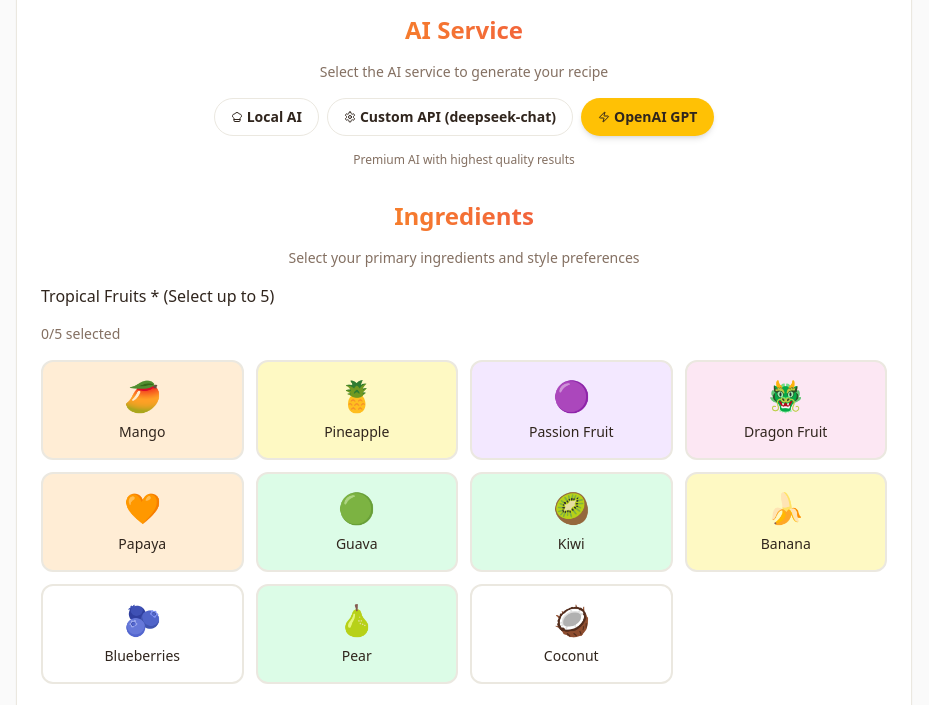
RecipeGenerator Component › allows selecting multiple ingredients and styles
This screenshot has width=929, height=705.
Click the text "Mango". click: (142, 432)
box: [119,422,165,441]
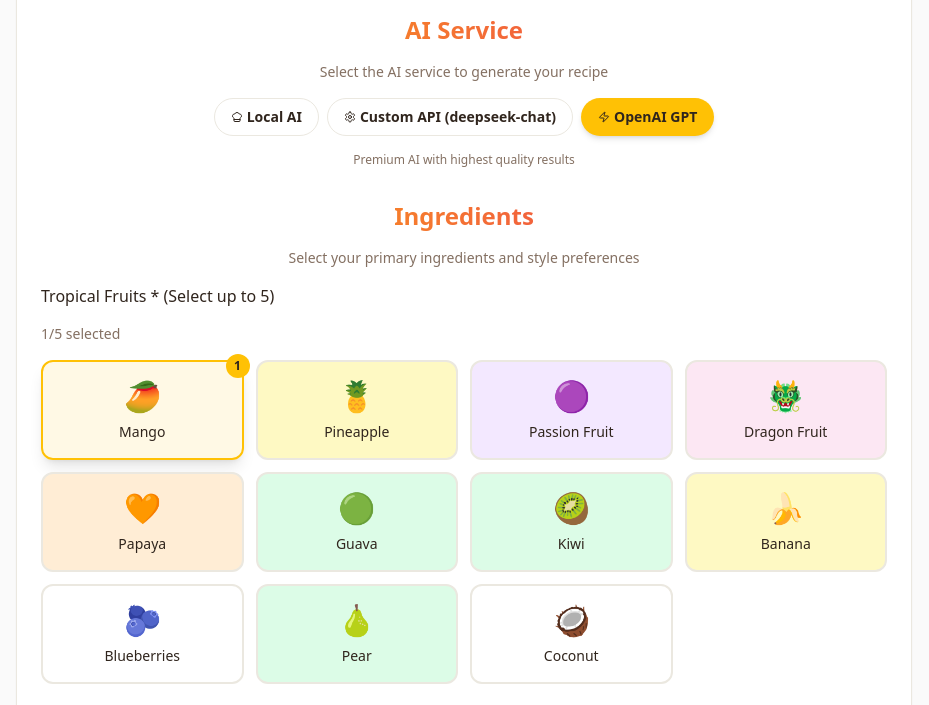
Click the text "Pineapple". click: (357, 432)
box: [324,422,389,441]
(page scrolled)
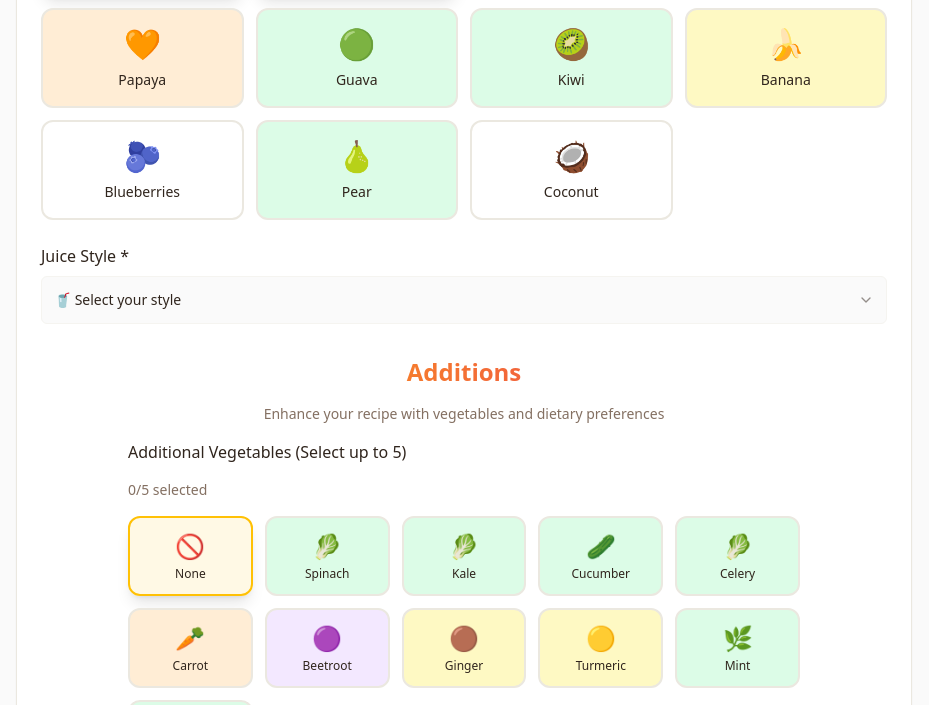
# Open style select and click Smoothie
Click the dropdown named "Juice Style". click: (118, 300)
box: [41,276,887,324]
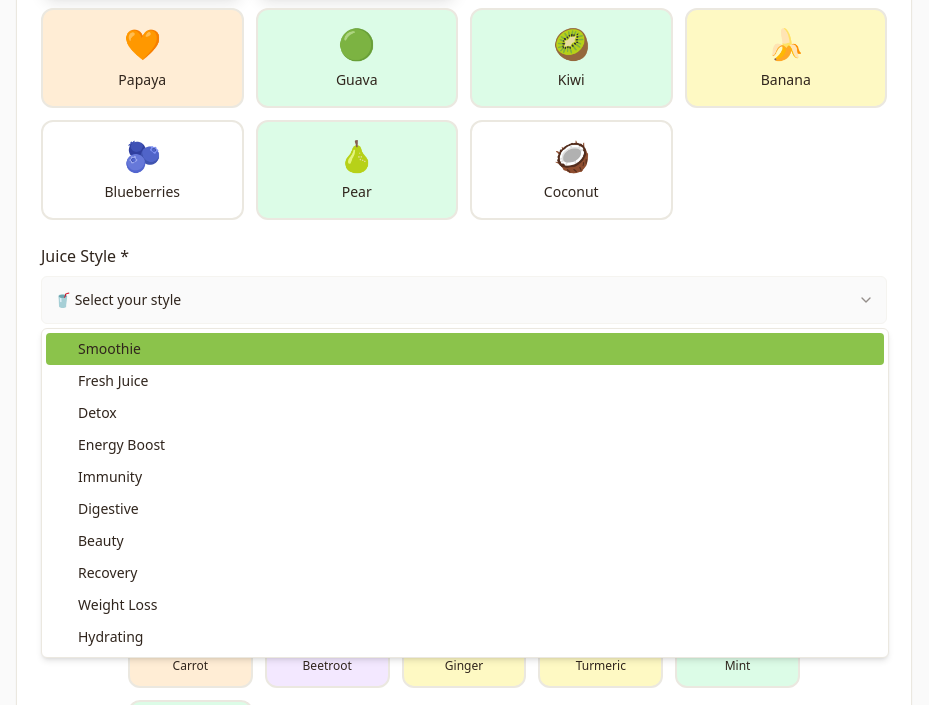
Click the option "Smoothie". click: (109, 348)
box: [46,333,884,365]
(page scrolled)
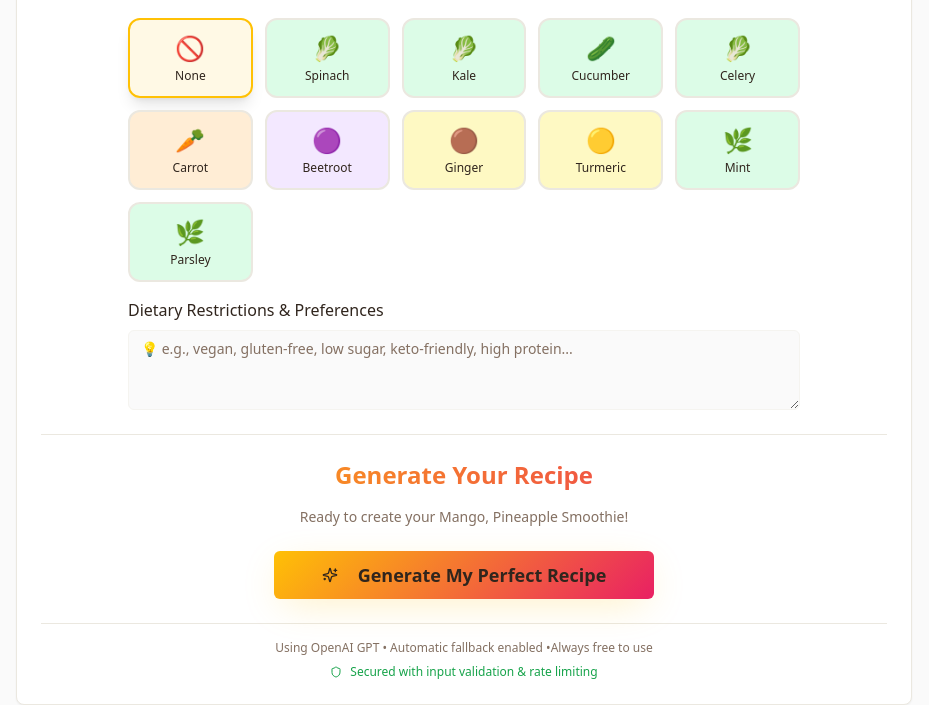
Now the button "Generate My Perfect Recipe" is enabled, box [274,551,654,599]
